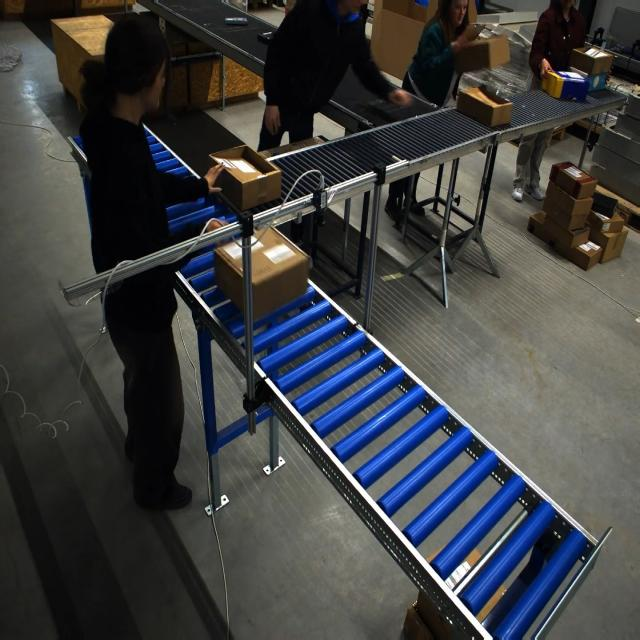box: (216, 228, 309, 323), (207, 144, 280, 212), (455, 85, 512, 128), (453, 32, 509, 74), (541, 70, 589, 100)
product: (257, 31, 274, 44), (224, 17, 248, 25)
